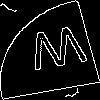W: (24, 25, 92, 80)
